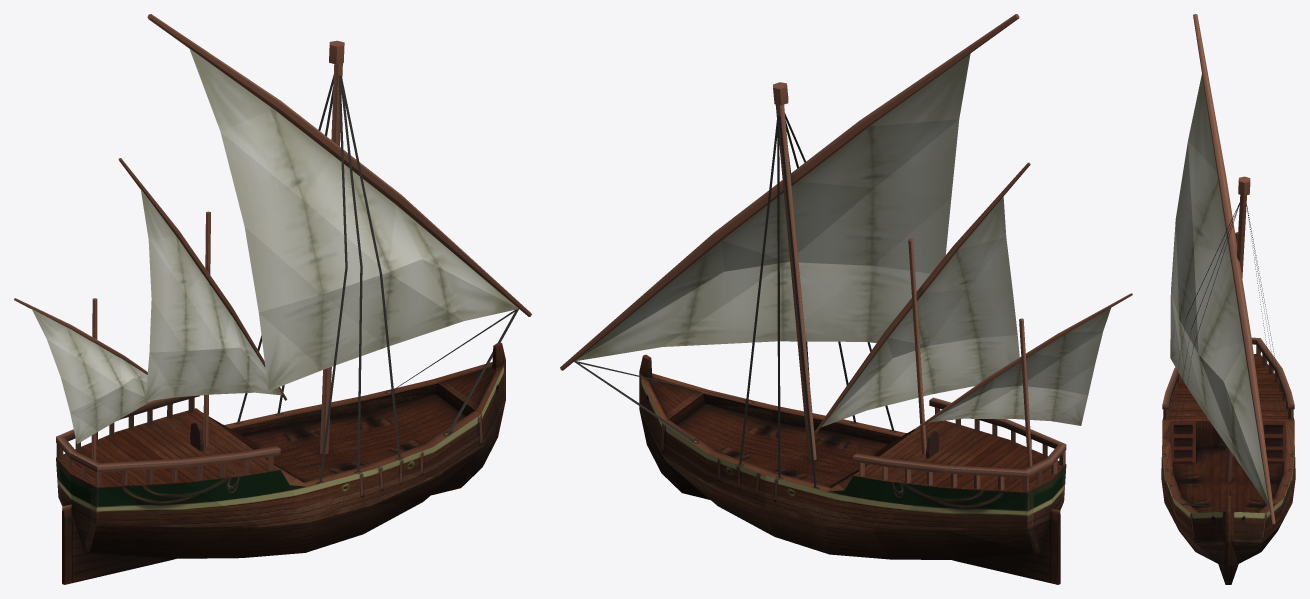
File: pirate_ship_1.fbx
The picture shows the model from 3 angles, left to right: view 1: azimuth 30°, elevation 25°; view 2: azimuth 150°, elevation 25°; view 3: azimuth 270°, elevation 25°; orthographic projection. The views are drawn at different scales.
Visible parts, largest first — view 1: Pirate_Ship_1; view 2: Pirate_Ship_1; view 3: Pirate_Ship_1.
Boxes of the visible parts, <box> form: Pirate_Ship_1: <box>14,14,531,584</box>; Pirate_Ship_1: <box>560,14,1132,584</box>; Pirate_Ship_1: <box>1161,14,1295,584</box>.
Bounding box in the file's own units: 5245 × 5092 × 1393.
